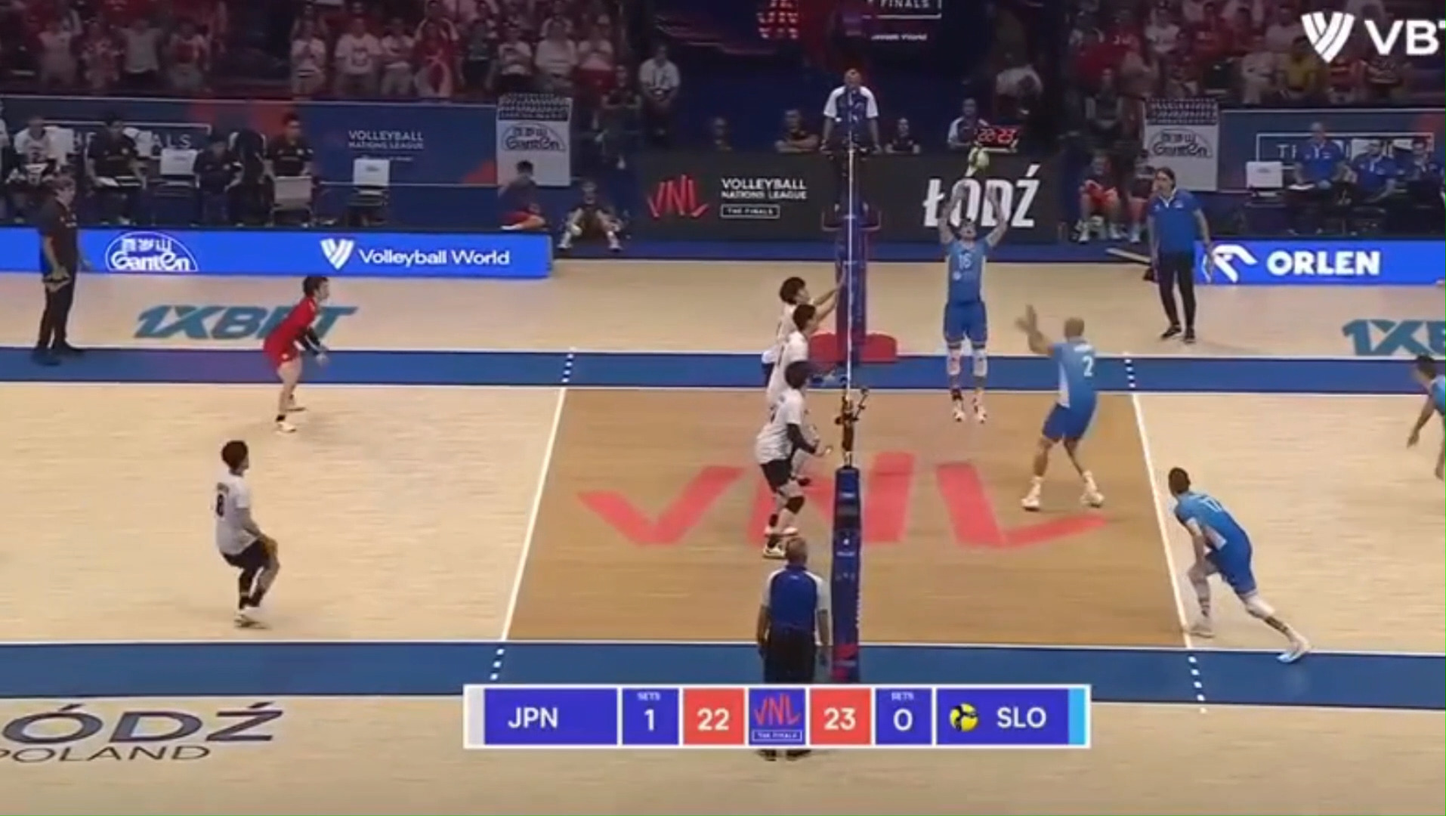ball: (969, 147, 989, 170)
player: (1167, 467, 1309, 663), (1015, 306, 1103, 512), (940, 195, 1008, 422), (1408, 355, 1445, 446), (1435, 437, 1445, 478)
player 1: (755, 360, 827, 558), (209, 439, 280, 627), (263, 275, 329, 432), (761, 276, 836, 383), (767, 303, 818, 405)
referee: (756, 536, 830, 683), (1148, 167, 1209, 344), (32, 175, 83, 363), (820, 68, 879, 229)
